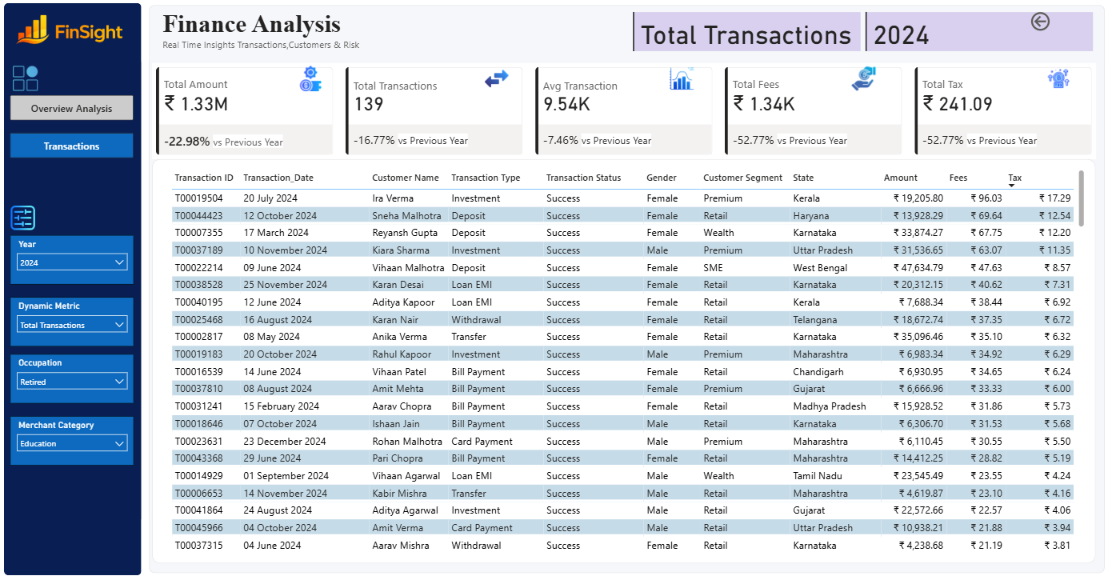

This screenshot's page, from the dashboard's own definition file:
{"tool":"powerbi","page":{"name":"Transactions","canvas":[1800,950],"ordinal":1},"visuals":[{"type":"shape","box":[246.7,15,1542,916.7],"z":0},{"type":"shape","box":[13.3,11.7,221.7,923.3],"z":1000},{"type":"image","box":[13.3,15,215,80],"z":2000},{"type":"cardVisual","fields":{"Data":["finance_transactions.Dashboard Title"]},"box":[251.8,14.7,452.9,80.1],"z":3000},{"type":"cardVisual","fields":{"Data":["finance_transactions.Total Amount","Calendar.Total Transactions","Calendar.Avg Transaction","Calendar.Total Fees","Calendar.Total Tax"]},"box":[251.7,108.1,1523.1,154.9],"z":4000},{"type":"image","box":[482.4,107.9,50.7,50.7],"z":5000},{"type":"image","box":[783.3,107.9,50.7,50.7],"z":6000},{"type":"image","box":[1375.2,107.9,50.7,50.7],"z":7000},{"type":"image","box":[1689.1,107.9,50.7,50.7],"z":8000},{"type":"image","box":[1080.9,107.9,50.7,50.7],"z":9000},{"type":"cardVisual","fields":{"Data":["Calendar.Selected Dynamic Measure","Calendar.Selected Year"]},"box":[1022.9,21,752.2,73.6],"z":10000},{"type":"shape","box":[251.8,263.3,1522.4,652.4],"z":11000},{"type":"tableEx","fields":{"Values":["finance_transactions.transaction_id","finance_transactions.transaction_date","customers.Full Name","finance_transactions.transaction_type","finance_transactions.transaction_status","customers.gender","customers.customer_segment","customers.state","finance_transactions.Total Amount","Calendar.Total Fees","Calendar.Total Tax"]},"box":[278,276.3,1483.1,623],"z":12000},{"type":"actionButton","box":[1664.6,21.3,100,40],"z":13000},{"type":"slicer","fields":{"Values":["Calendar.Year"]},"box":[22.9,385.9,200,80],"z":14000},{"type":"slicer","fields":{"Values":["Dynamic Metric.Dynamic Metric"]},"box":[22.9,485.6,200,80],"z":15000},{"type":"slicer","fields":{"Values":["finance_transactions.merchant_category"]},"box":[22.9,677,200,80],"z":16000},{"type":"slicer","fields":{"Values":["customers.occupation"]},"box":[22.9,577.2,200,80],"z":17000},{"type":"pageNavigator","box":[22.9,160.2,199.5,103],"z":18000},{"type":"image","box":[22.9,107.9,50.7,50.7],"z":19000},{"type":"image","box":[22.9,335.2,50.7,50.7],"z":20000}]}

Visuals, with their boxes in screenshot pixels (x1, y1, x2, y2), scaled from the page's 1800x950 canvas onto the 1106x578 screenshot:
shape: x1=152 y1=9 x2=1099 y2=567
shape: x1=8 y1=7 x2=144 y2=569
image: x1=8 y1=9 x2=140 y2=58
cardVisual - finance_transactions.Dashboard Title: x1=155 y1=9 x2=433 y2=58
cardVisual - finance_transactions.Total Amount x Calendar.Total Transactions: x1=155 y1=66 x2=1091 y2=160
image: x1=296 y1=66 x2=328 y2=96
image: x1=481 y1=66 x2=512 y2=96
image: x1=845 y1=66 x2=876 y2=96
image: x1=1038 y1=66 x2=1069 y2=96
image: x1=664 y1=66 x2=695 y2=96
cardVisual - Calendar.Selected Dynamic Measure x Calendar.Selected Year: x1=629 y1=13 x2=1091 y2=58
shape: x1=155 y1=160 x2=1090 y2=557
tableEx - finance_transactions.transaction_id x finance_transactions.transaction_date: x1=171 y1=168 x2=1082 y2=547
actionButton: x1=1023 y1=13 x2=1084 y2=37
slicer - Calendar.Year: x1=14 y1=235 x2=137 y2=283
slicer - Dynamic Metric.Dynamic Metric: x1=14 y1=295 x2=137 y2=344
slicer - finance_transactions.merchant_category: x1=14 y1=412 x2=137 y2=461
slicer - customers.occupation: x1=14 y1=351 x2=137 y2=400
pageNavigator: x1=14 y1=97 x2=137 y2=160
image: x1=14 y1=66 x2=45 y2=96
image: x1=14 y1=204 x2=45 y2=235
